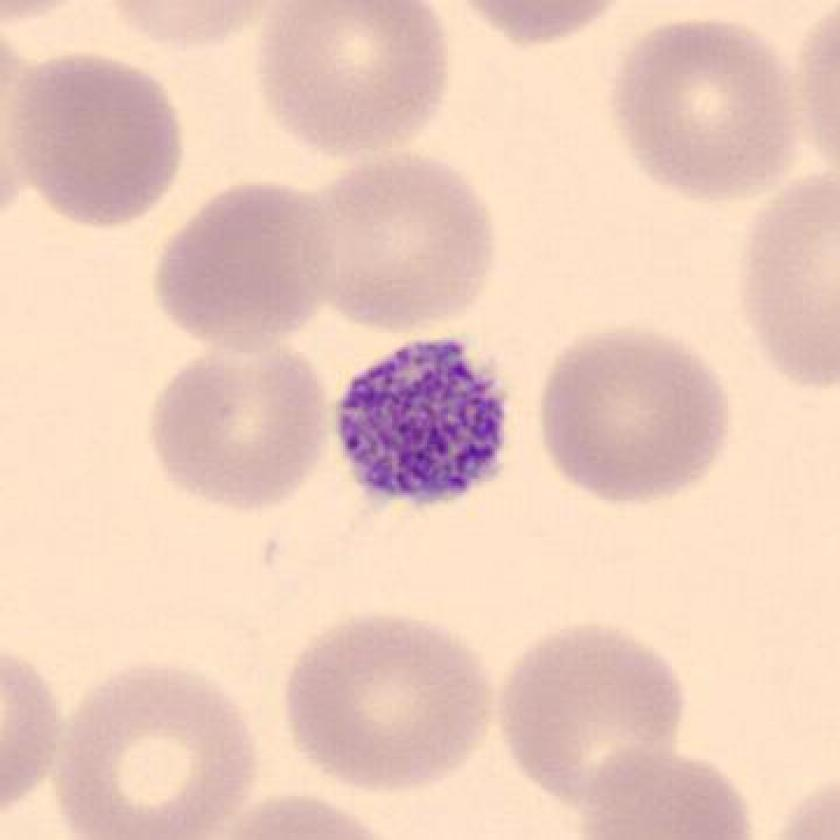platelets: (335, 325, 514, 515)
